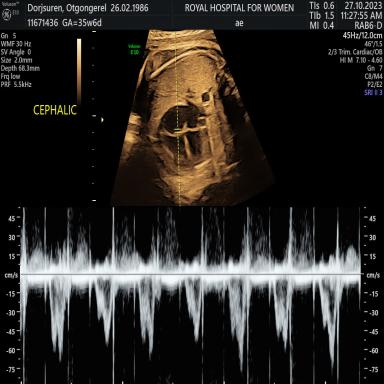Ultrasound-Waves: (29, 207, 357, 384)
